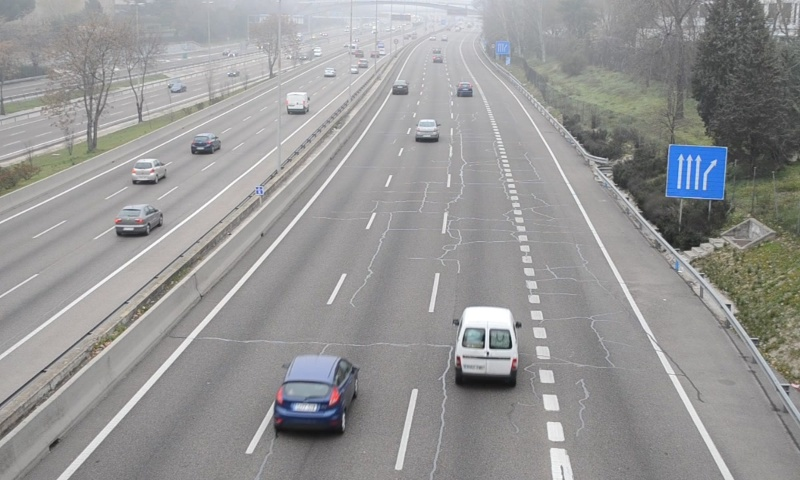car: (275, 354, 358, 430), (415, 118, 438, 140), (456, 81, 473, 97), (392, 79, 409, 94)
van: (456, 306, 518, 382)
